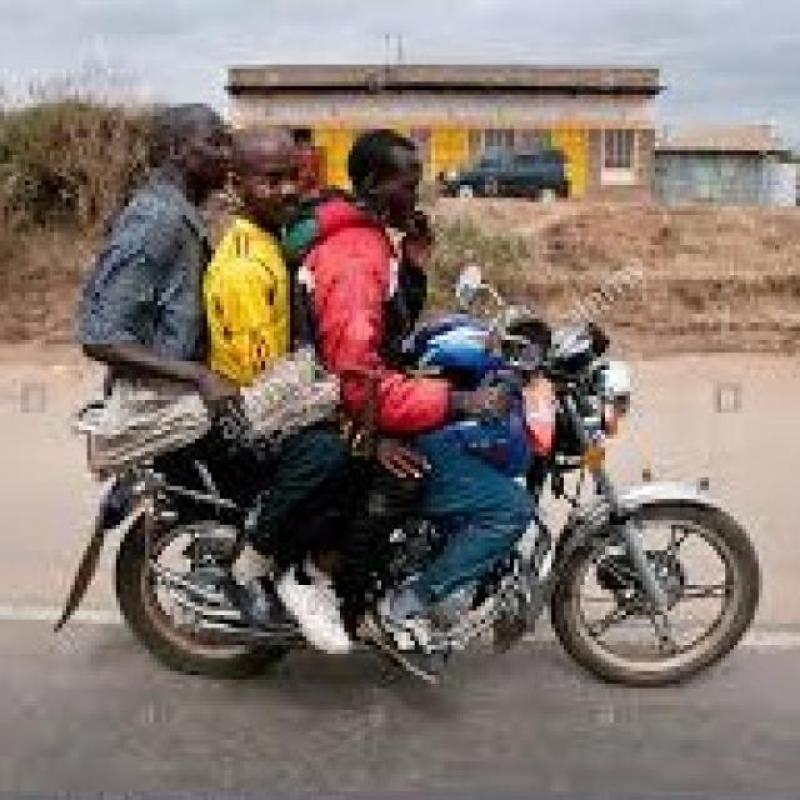nohelmet: (332, 109, 453, 247), (233, 102, 313, 246), (145, 84, 230, 209)
